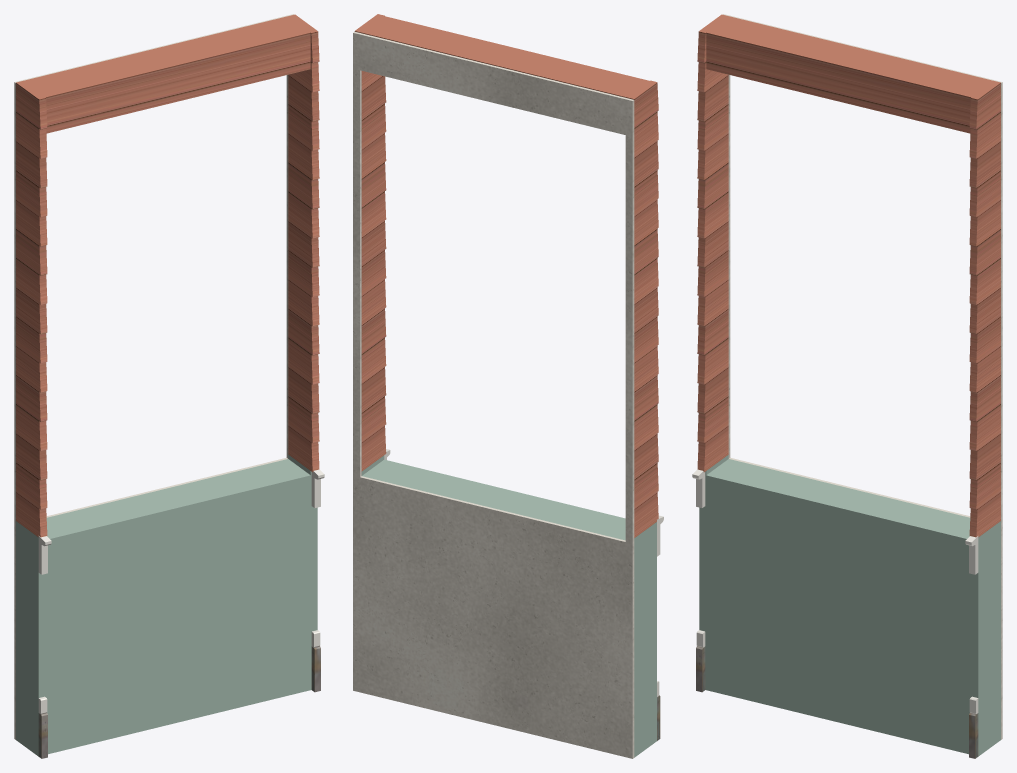
Rendered from f_g_bay_e.glb.
The picture shows the model from 3 angles, left to right: view 1: azimuth 30°, elevation 25°; view 2: azimuth 150°, elevation 25°; view 3: azimuth 330°, elevation 25°; orthographic projection.
Visible parts, largest first — view 1: f_g_bay_e_acc_e, f_g_bay_e_siding_e, f_g_bay_e_plaster, f_g_bay_e_trim, f_g_bay_e_plinth; view 2: f_g_bay_e_plaster, f_g_bay_e_siding_e, f_g_bay_e_acc_e; view 3: f_g_bay_e_acc_e, f_g_bay_e_siding_e, f_g_bay_e_plaster, f_g_bay_e_trim, f_g_bay_e_plinth.
Part boxes in pixels (box(x1,y1,x2,y2)): f_g_bay_e_acc_e: box(16, 455, 317, 756); f_g_bay_e_siding_e: box(16, 14, 319, 537); f_g_bay_e_plaster: box(14, 14, 293, 739); f_g_bay_e_trim: box(38, 469, 324, 713); f_g_bay_e_plinth: box(38, 646, 320, 758); f_g_bay_e_plaster: box(353, 31, 634, 758); f_g_bay_e_siding_e: box(354, 14, 658, 537); f_g_bay_e_acc_e: box(361, 455, 656, 757); f_g_bay_e_acc_e: box(699, 455, 1000, 756); f_g_bay_e_siding_e: box(697, 14, 1000, 537); f_g_bay_e_plaster: box(723, 14, 1002, 739); f_g_bay_e_trim: box(692, 469, 978, 713); f_g_bay_e_plinth: box(696, 646, 978, 758).
Size of the model in its own units: 2 by 4.5 by 0.385.
5 materials, 3 textured.
